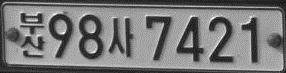1: (239, 16, 265, 63)
2: (208, 15, 234, 63)
4: (175, 16, 204, 61)
7: (145, 14, 171, 60)
8: (77, 13, 103, 59)
9: (47, 12, 73, 58)
부산_V: (19, 11, 45, 58)
사: (107, 17, 134, 57)
